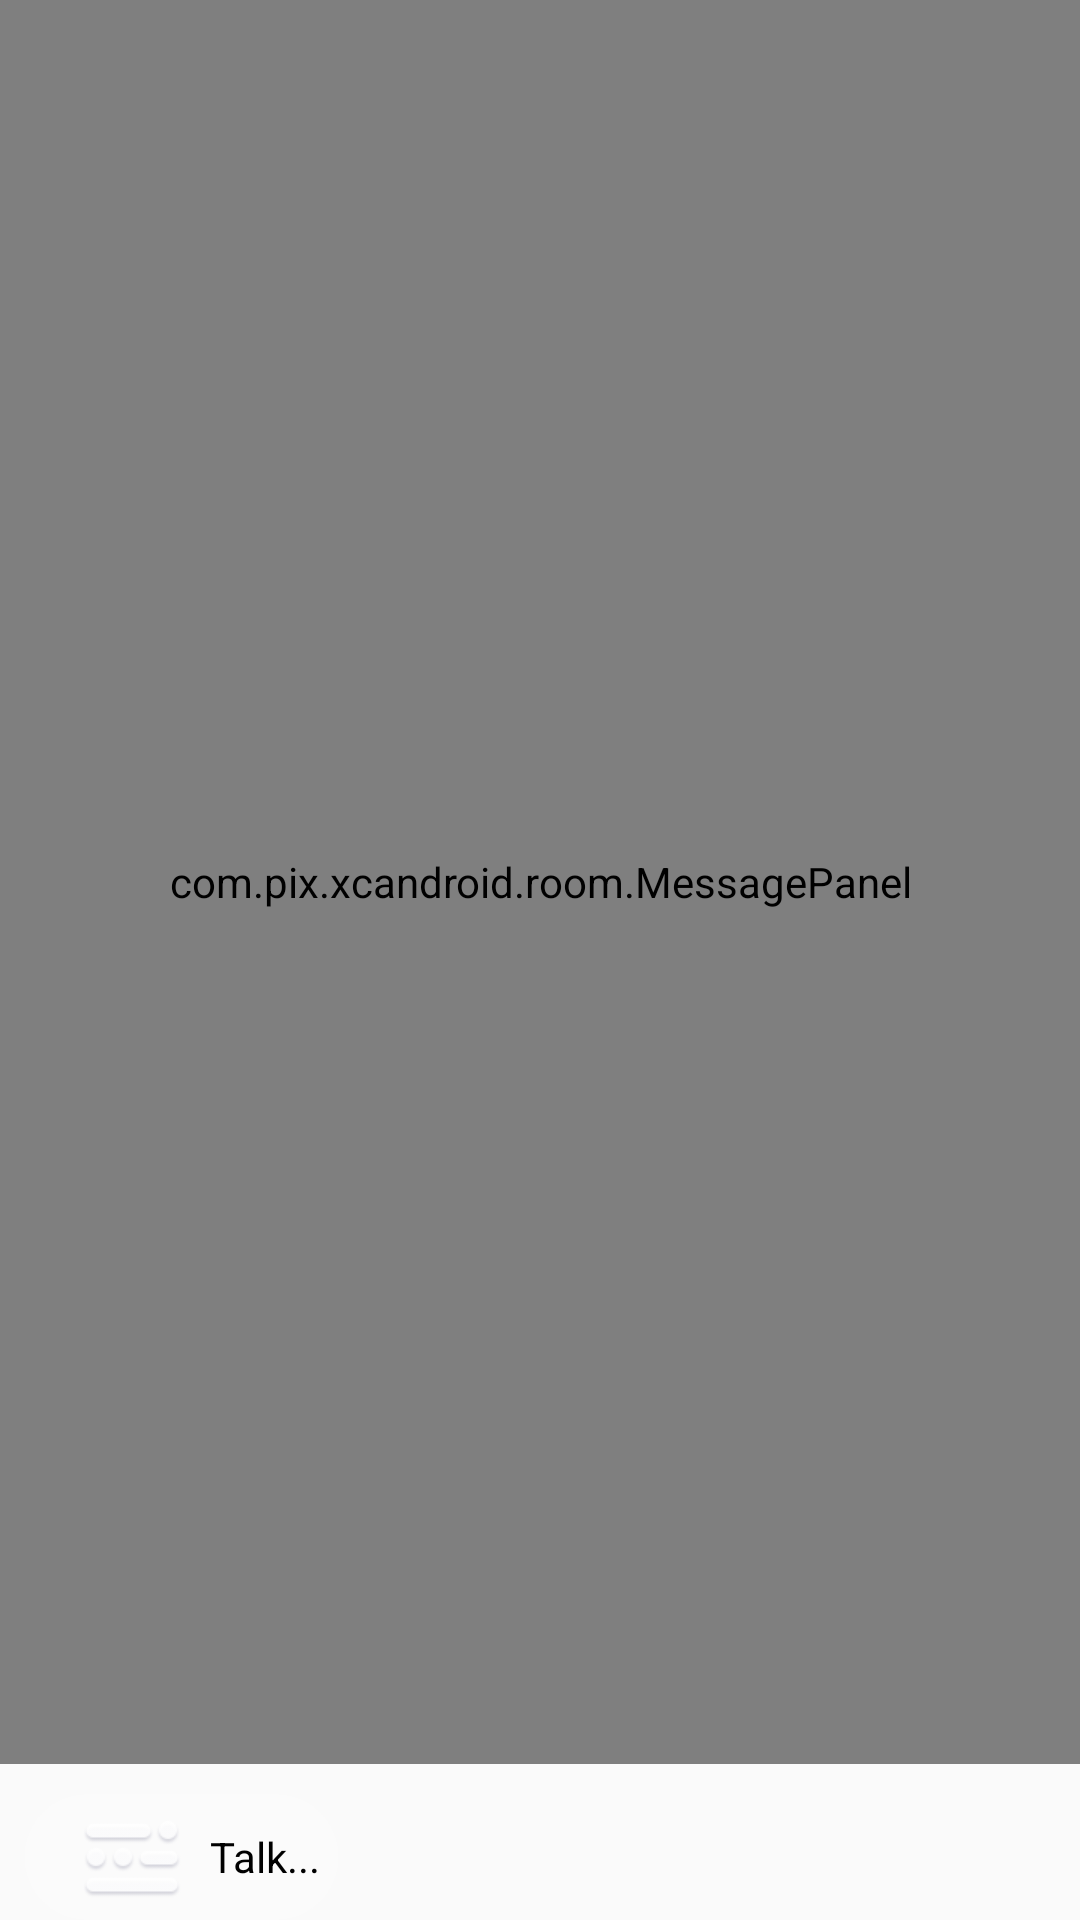

Icons on this 1080*1920 Android screen, each with its box as (x1, y1, x2, y2):
li room bottom keyboard: (89, 1837, 175, 1894)
